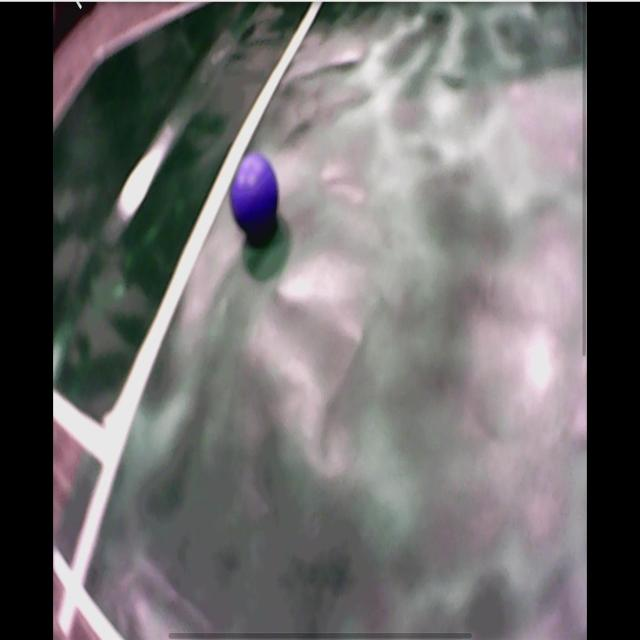ball: (231, 158, 280, 233)
